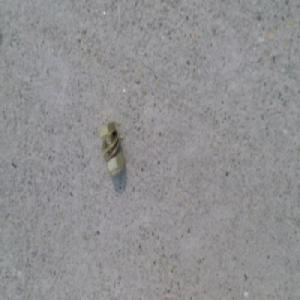BoltNutSet: (97, 119, 124, 176)
